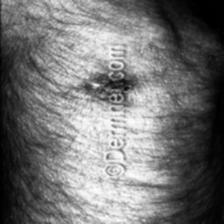Potentially Malignant Skin Tumors: (85, 76, 131, 102)
